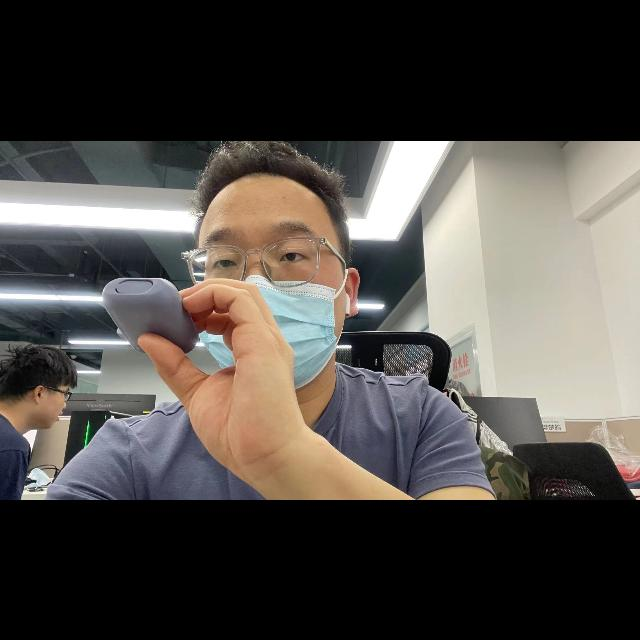airpods: (101, 278, 199, 356)
